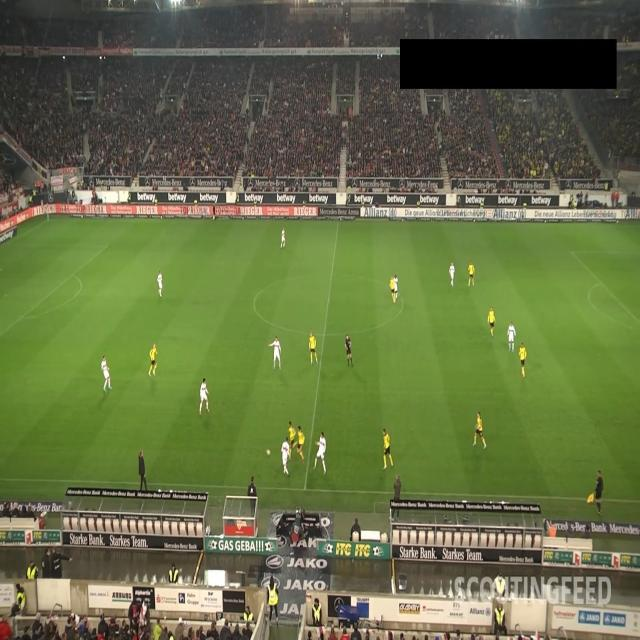ball: (266, 448, 272, 456)
